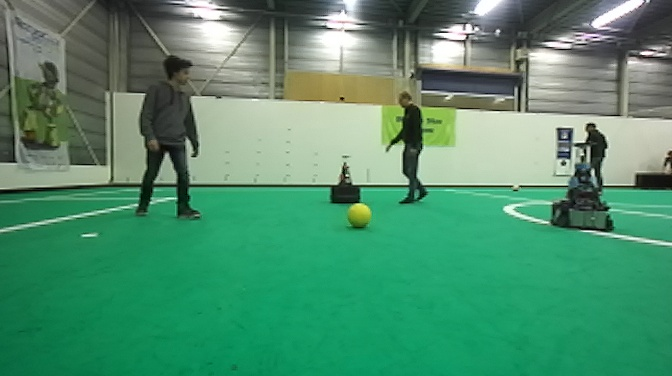ball: (345, 201, 373, 230), (509, 182, 521, 193)
human: (133, 52, 204, 222), (383, 90, 431, 207), (573, 117, 610, 191)
robot: (549, 139, 616, 232), (329, 152, 362, 206)
